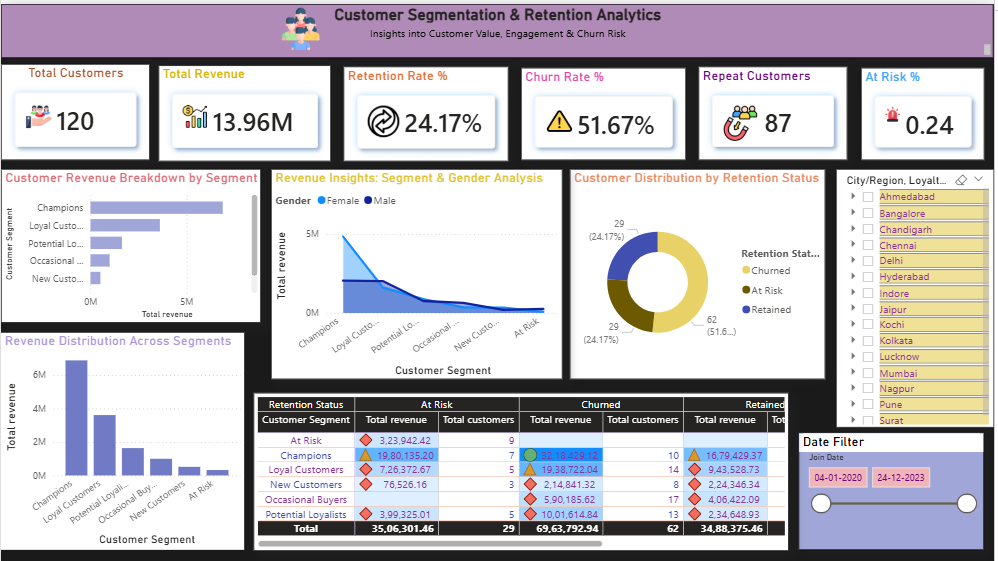

The page's visual inventory and layout, read from the dashboard file:
{"tool":"powerbi","page":{"name":"DASHBOARD","canvas":[1280,720],"ordinal":0},"visuals":[{"type":"textbox","title":"Customer Segmentation & Retention Analytics","box":[0,0,1280,69.8],"z":0},{"type":"image","box":[347.8,0,77,64.1],"z":1000},{"type":"cardVisual","title":"Total Customers ","fields":{"Data":["Customer Data.Total customers"]},"box":[0,77.4,191.8,124.1],"z":2000},{"type":"cardVisual","title":"Retention Rate %","fields":{"Data":["Customer Data.Retention Rate %"]},"box":[441.7,80.6,212.8,122.5],"z":3000},{"type":"cardVisual","title":"Churn Rate %","fields":{"Data":["Customer Data.Churn Rate %"]},"box":[670.6,82.2,212.8,119.3],"z":4000},{"type":"cardVisual","title":"Total Revenue ","fields":{"Data":["Customer Data.Total revenue"]},"box":[203.1,79,222.5,124.1],"z":5000},{"type":"cardVisual","title":"Repeat Customers  ","fields":{"Data":["Customer Data.Repeat Customers"]},"box":[899.5,80.6,191.8,120.9],"z":6000},{"type":"cardVisual","title":"At Risk %","fields":{"Data":["Customer Data.At Risk %"]},"box":[1109.1,82.2,159.6,119.3],"z":7000},{"type":"slicer","fields":{"Values":["Customer Data.City/Region","Customer Data.Loyalty Tier","Customer Data.Purchase Channel","Customer Data.Gender"]},"box":[1076.3,213.6,203.7,333.8],"z":8000},{"type":"slicer","title":"Date Filter","fields":{"Values":["Customer Data.Join Date"]},"box":[1028.2,553,239,151.3],"z":9000},{"type":"pivotTable","fields":{"Rows":["Customer Data.Customer Segment"],"Columns":["Customer Data.Retention Status"],"Values":["Customer Data.Total revenue","Customer Data.Total customers"]},"box":[325.3,500.7,690.2,203.7],"z":10000},{"type":"clusteredBarChart","title":"Customer Revenue Breakdown by Segment","fields":{"Category":["Customer Data.Customer Segment"],"Y":["Customer Data.Total revenue"]},"box":[0,213.6,335.2,198],"z":11000},{"type":"clusteredColumnChart","title":"Revenue Distribution Across Segments","fields":{"Category":["Customer Data.Customer Segment"],"Y":["Customer Data.Total revenue"]},"box":[0,424.3,314,280],"z":12000},{"type":"donutChart","title":"Customer Distribution by Retention Status","fields":{"Category":["Customer Data.Retention Status"],"Y":["CountNonNull(Customer Data.Customer ID)"]},"box":[734.1,213.6,329.5,271.6],"z":13000},{"type":"lineChart","title":"Revenue Insights: Segment & Gender Analysis","fields":{"Category":["Customer Data.Customer Segment"],"Y":["Customer Data.Total revenue"],"Series":["Customer Data.Gender"]},"box":[347.9,213.6,376.2,271.6],"z":14000}]}

Visuals, with their boxes in screenshot pixels (x1, y1, x2, y2), scaled from the page's 1280x720 canvas onto the 998x561 screenshot:
"Customer Segmentation & Retention Analytics" textbox: (0,0,997,54)
image: (271,0,331,50)
"Total Customers " cardVisual: (0,60,150,157)
"Retention Rate %" cardVisual: (344,63,510,158)
"Churn Rate %" cardVisual: (523,64,689,157)
"Total Revenue " cardVisual: (158,62,332,158)
"Repeat Customers  " cardVisual: (701,63,851,157)
"At Risk %" cardVisual: (865,64,989,157)
slicer - Customer Data.City/Region x Customer Data.Loyalty Tier: (839,166,997,427)
"Date Filter" slicer: (802,431,988,549)
pivotTable - Customer Data.Customer Segment x Customer Data.Retention Status: (254,390,792,549)
"Customer Revenue Breakdown by Segment" clusteredBarChart: (0,166,261,321)
"Revenue Distribution Across Segments" clusteredColumnChart: (0,331,245,549)
"Customer Distribution by Retention Status" donutChart: (572,166,829,378)
"Revenue Insights: Segment & Gender Analysis" lineChart: (271,166,565,378)
